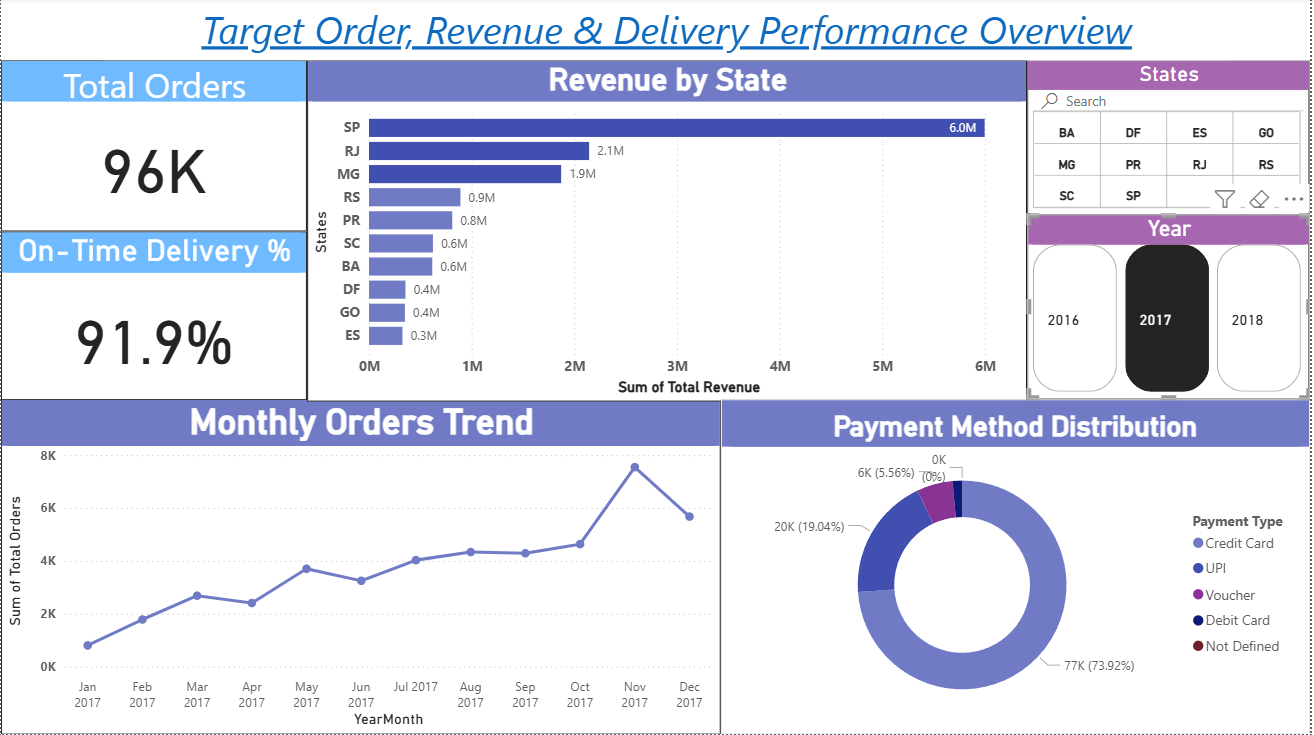

This screenshot's page, from the dashboard's own definition file:
{"tool":"powerbi","page":{"name":"Page 1","canvas":[1280,720],"ordinal":0},"visuals":[{"type":"card","title":"Total Orders","fields":{"Values":["Sum(Delivery Performance.Total Orders)"]},"box":[0,61.1,299.6,167.5],"z":0},{"type":"card","title":"On-Time Delivery %","fields":{"Values":["Delivery Performance.On-Time Delivery %"]},"box":[0,228.7,299.6,166.3],"z":1000},{"type":"lineChart","title":"Monthly Orders Trend","fields":{"Category":["Table3.YearMonth"],"Y":["Sum(Table3.Total Orders)"]},"box":[0,392.5,704.4,327.7],"z":2000},{"type":"clusteredBarChart","title":"Revenue by State","fields":{"Category":["Top 10 States Revenue.States"],"Y":["Sum(Top 10 States Revenue.Total Revenue)"]},"box":[299.6,61.1,704.4,333.8],"z":3000},{"type":"advancedSlicerVisual","fields":{"Values":["Top 10 States Revenue.States"]},"box":[1003.9,61.1,276.4,152.9],"z":4000},{"type":"donutChart","title":"Payment Method Distribution","fields":{"Category":["Payment Method Distribution.Payment Type"],"Y":["Sum(Payment Method Distribution.Total Orders)"]},"box":[704.4,392.5,576,327.7],"z":5000},{"type":"advancedSlicerVisual","fields":{"Values":["Table3.Year"]},"box":[1003.9,211.6,276.4,181],"z":5001},{"type":"textbox","box":[100.3,0,1101.8,61.1],"z":5002}]}

Visuals, with their boxes in screenshot pixels (x1, y1, x2, y2), scaled from the page's 1280x720 canvas onto the 1314x735 screenshot:
"Total Orders" card: region(0, 62, 308, 233)
"On-Time Delivery %" card: region(0, 233, 308, 403)
"Monthly Orders Trend" lineChart: region(0, 401, 723, 734)
"Revenue by State" clusteredBarChart: region(308, 62, 1031, 403)
advancedSlicerVisual - Top 10 States Revenue.States: region(1031, 62, 1313, 218)
"Payment Method Distribution" donutChart: region(723, 401, 1313, 734)
advancedSlicerVisual - Table3.Year: region(1031, 216, 1313, 401)
textbox: region(103, 0, 1234, 62)
